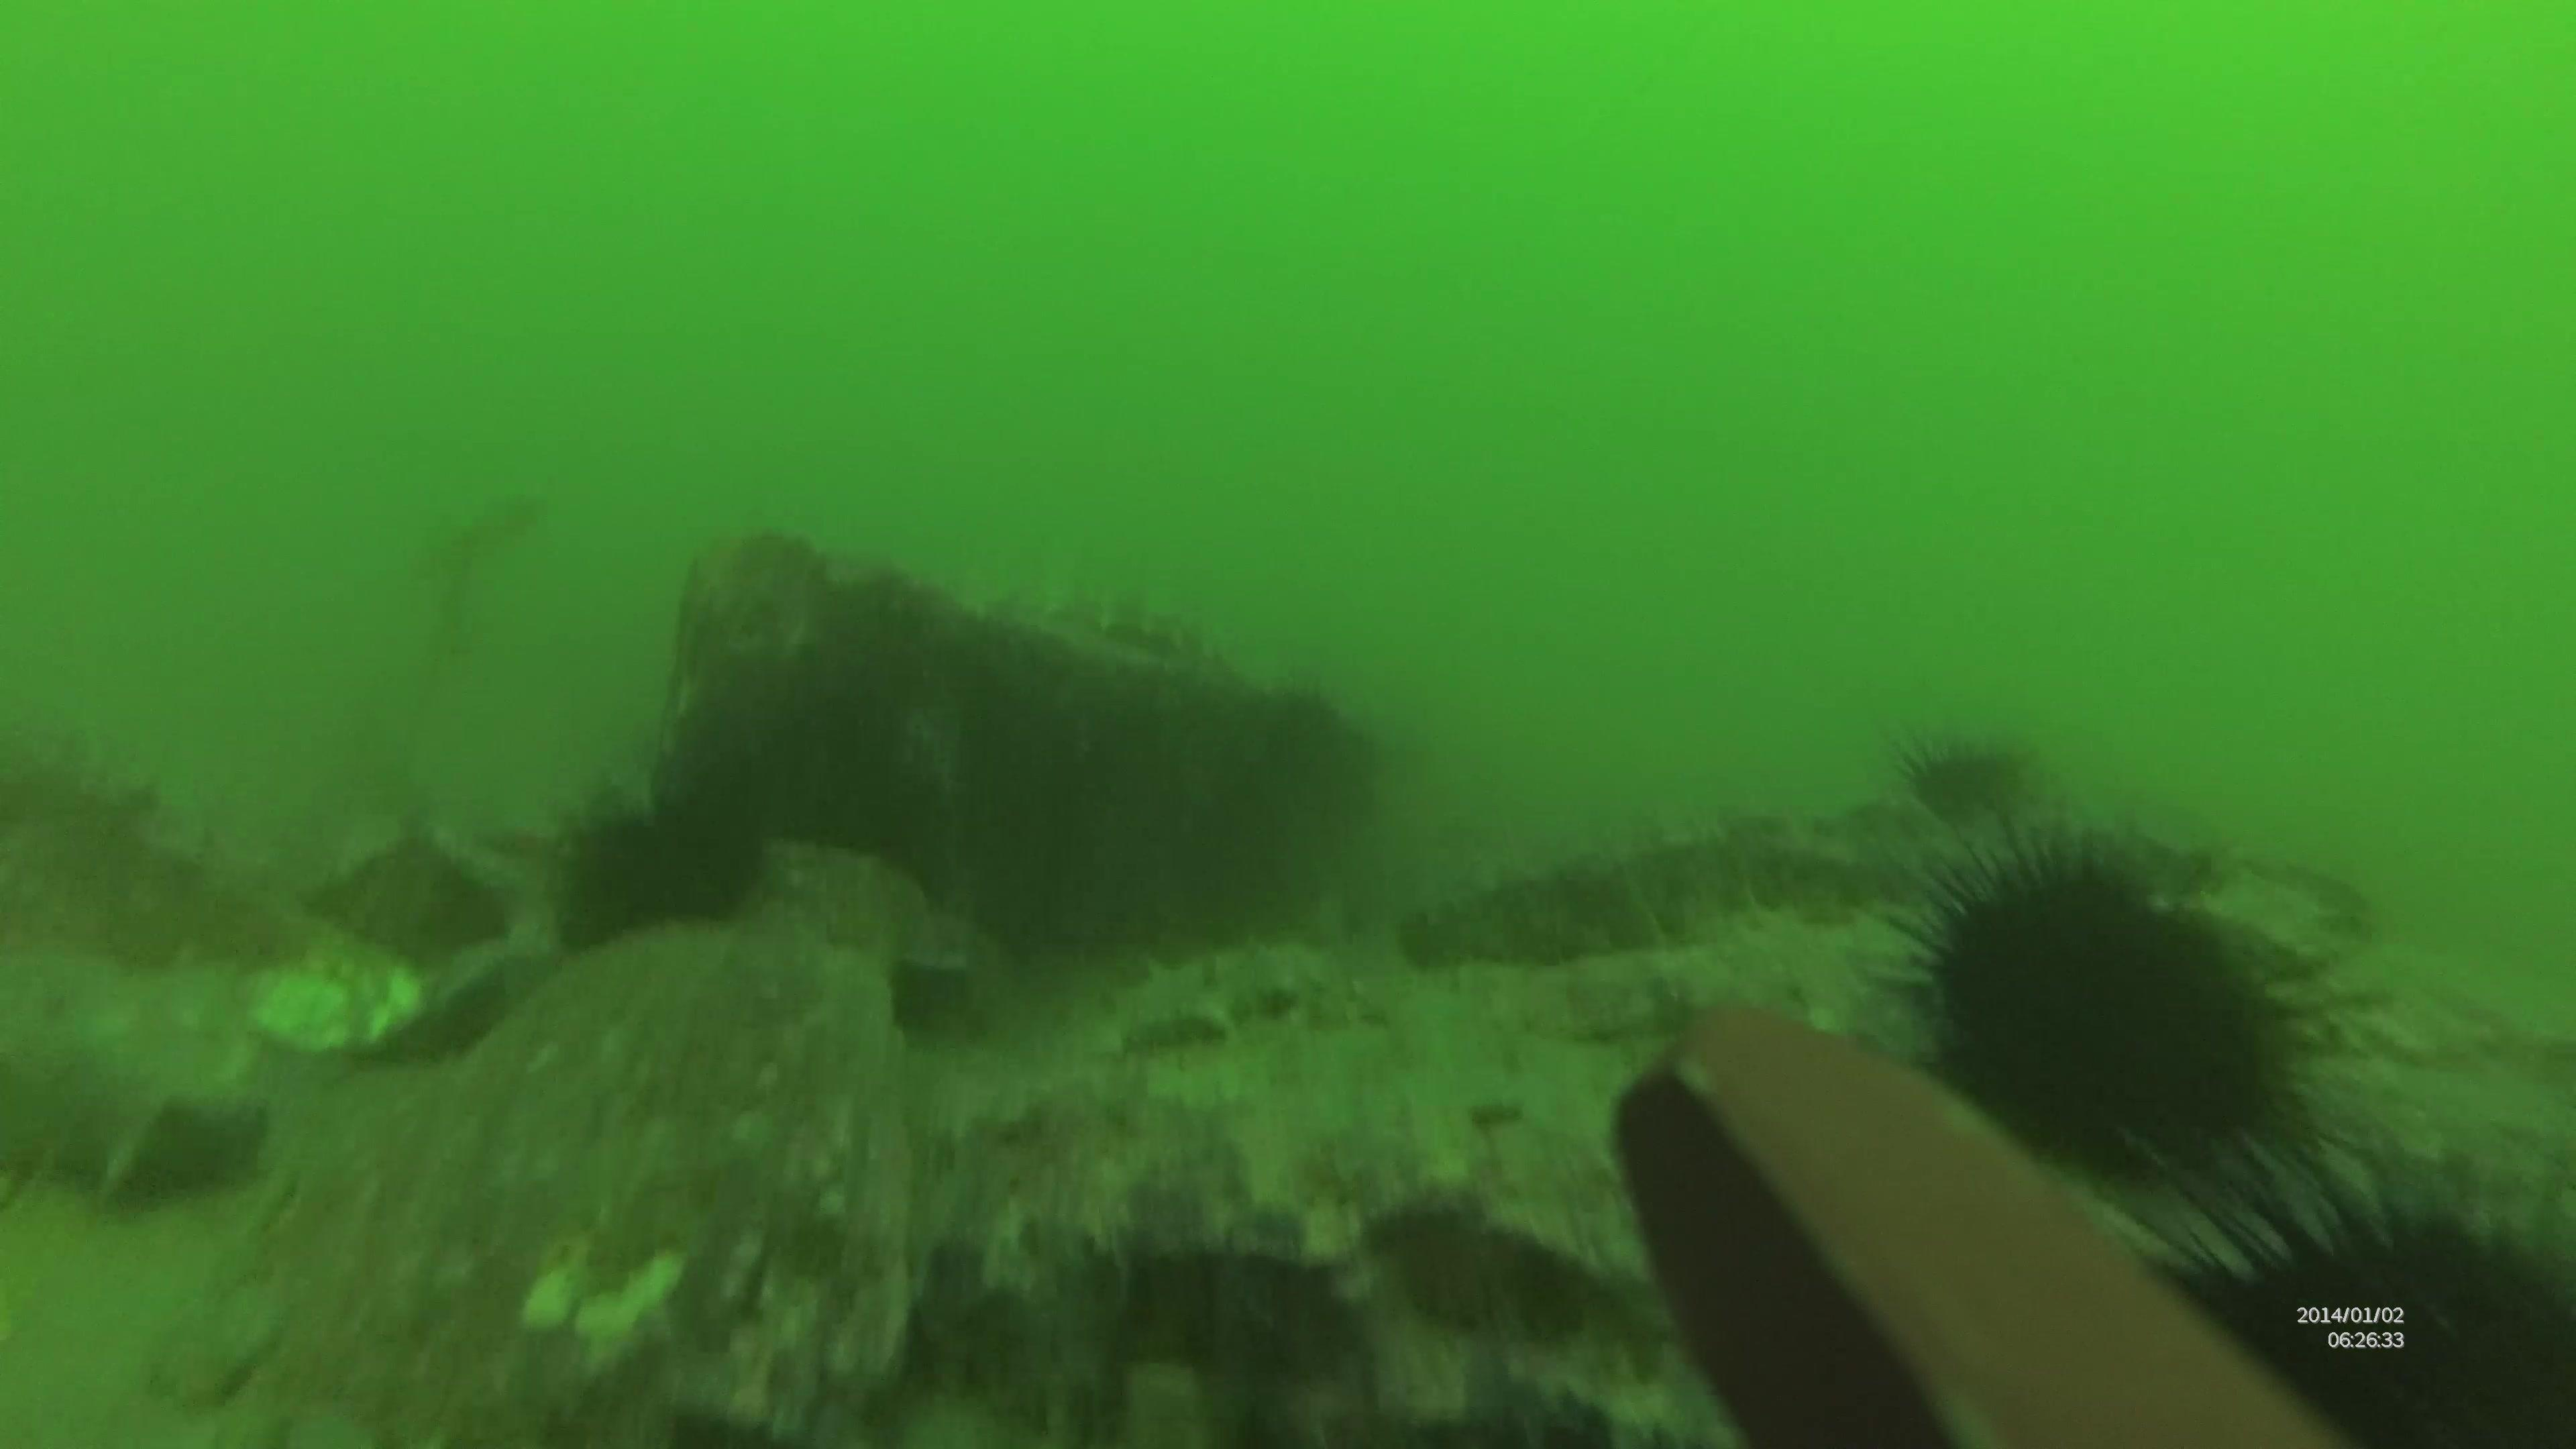echinus: (1888, 814, 2323, 1192), (2150, 1161, 2576, 1449), (520, 782, 759, 952), (1882, 720, 2058, 835)
holothurian: (932, 575, 1242, 681), (1116, 941, 1346, 1051)
